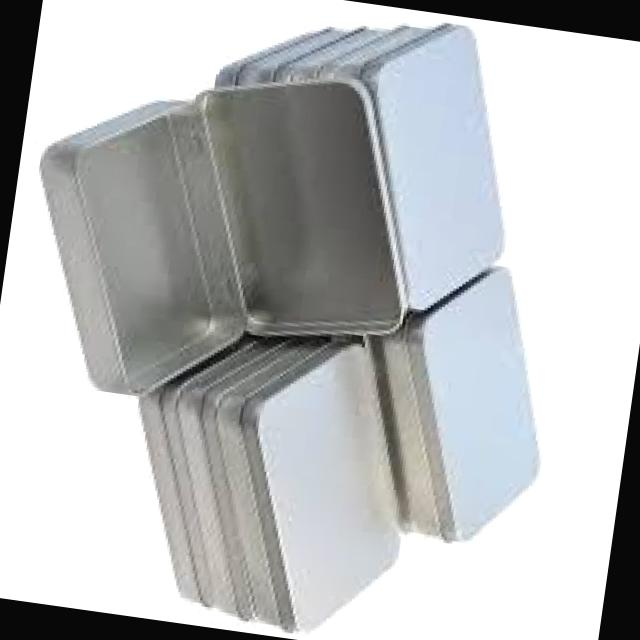metal: (41, 82, 404, 394), (242, 342, 399, 632), (373, 269, 538, 542), (359, 26, 503, 309), (216, 338, 326, 625), (176, 340, 277, 618), (160, 338, 254, 607), (199, 340, 284, 621), (138, 391, 199, 603), (234, 28, 347, 87), (313, 26, 427, 81), (275, 28, 385, 83)
